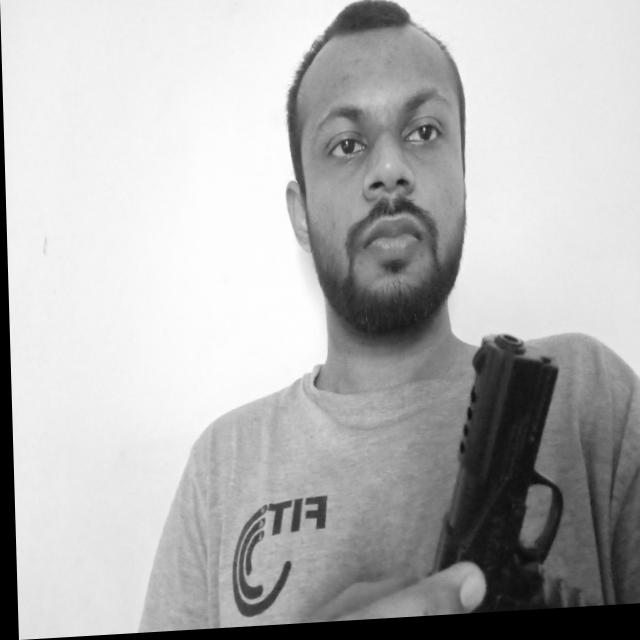handgun: (419, 333, 590, 621)
